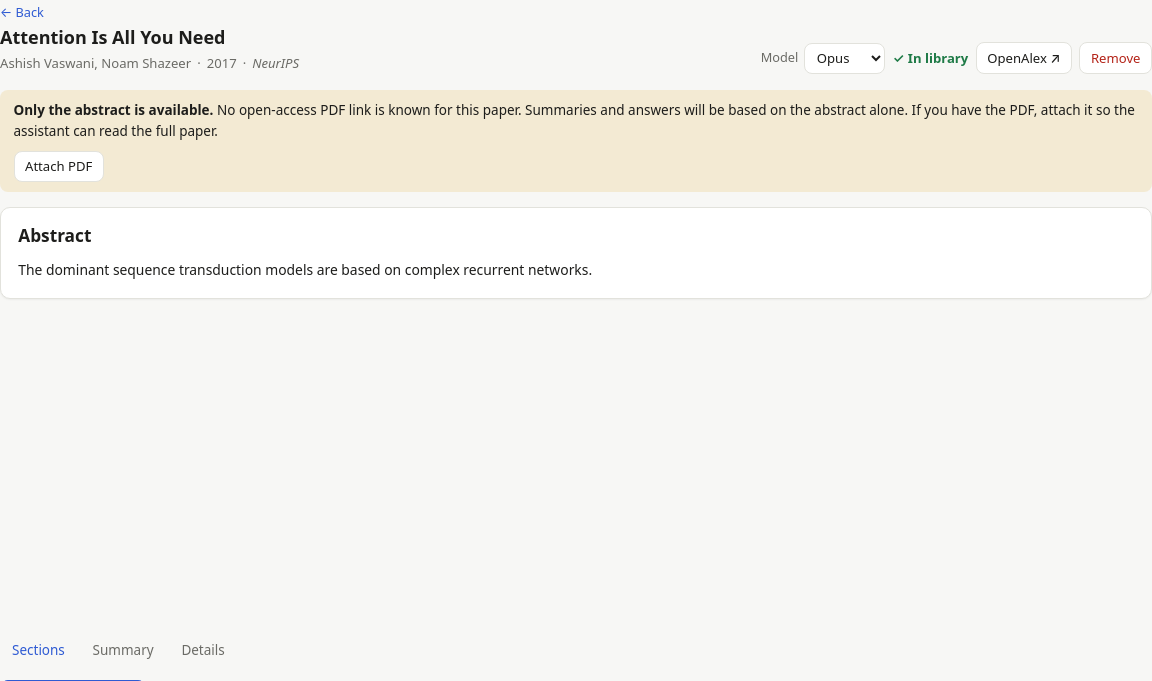
Scenario: PaperPage › switches between sections, summary, and details
Click the tab "Summary" at [123, 650], box [81,634,166,667]
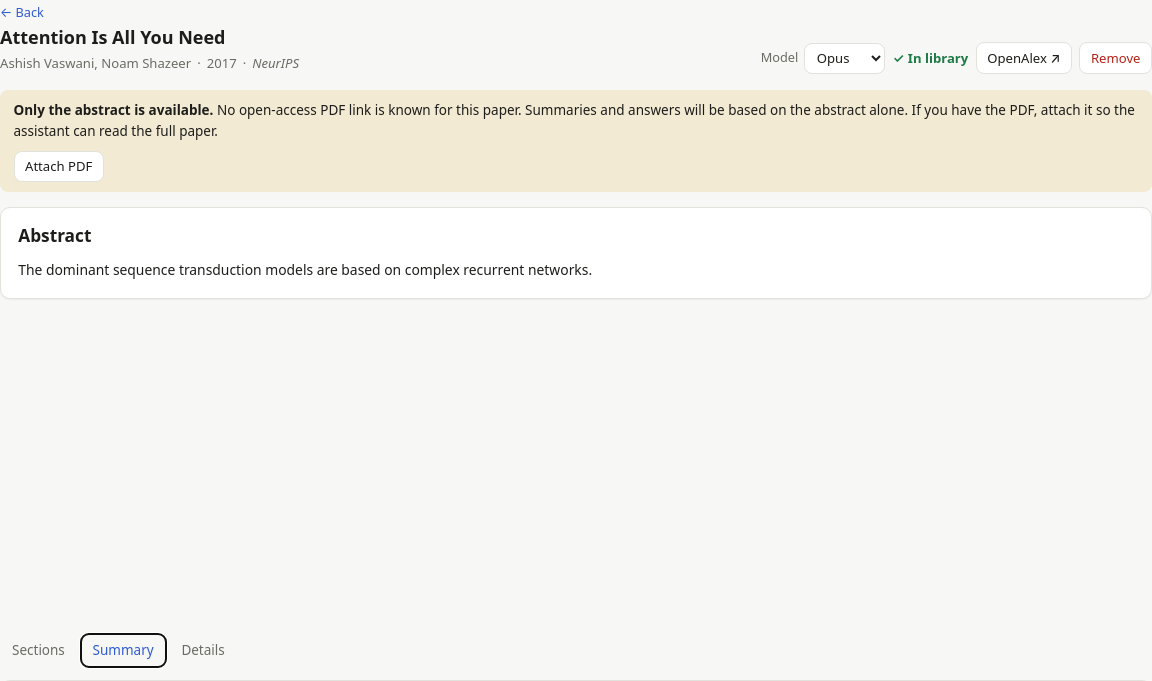
Click the tab "Details" at [203, 650], box [169,634,237,667]
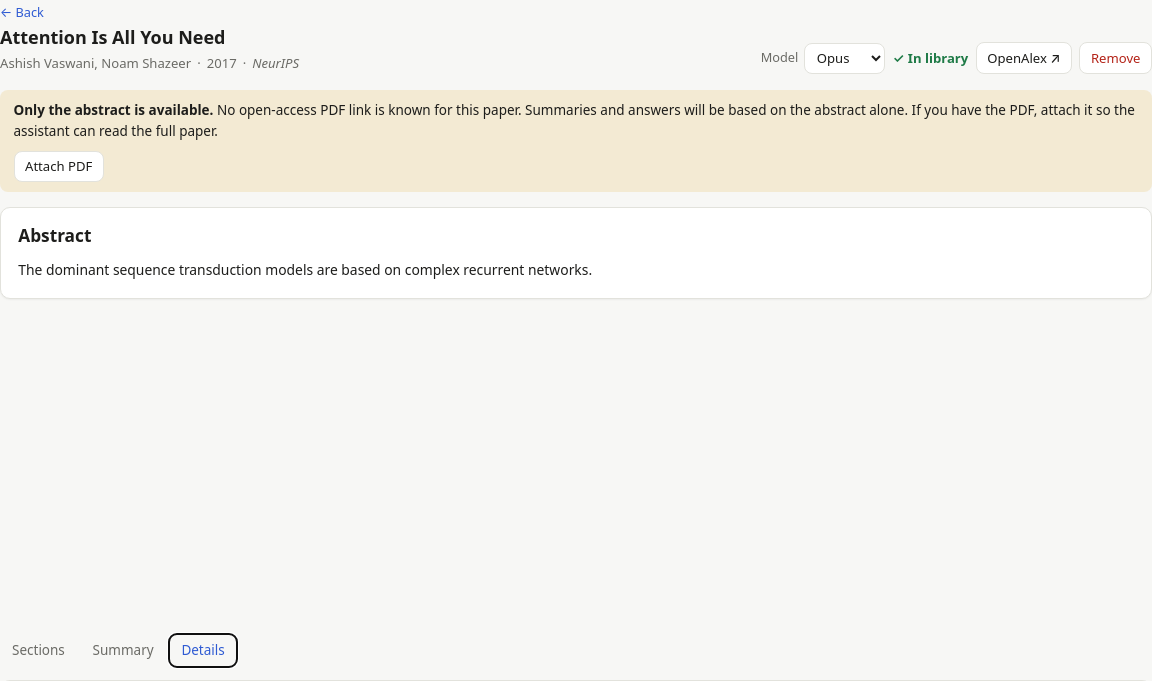
Now the tab "Details" is selected, box [169,634,237,667]
